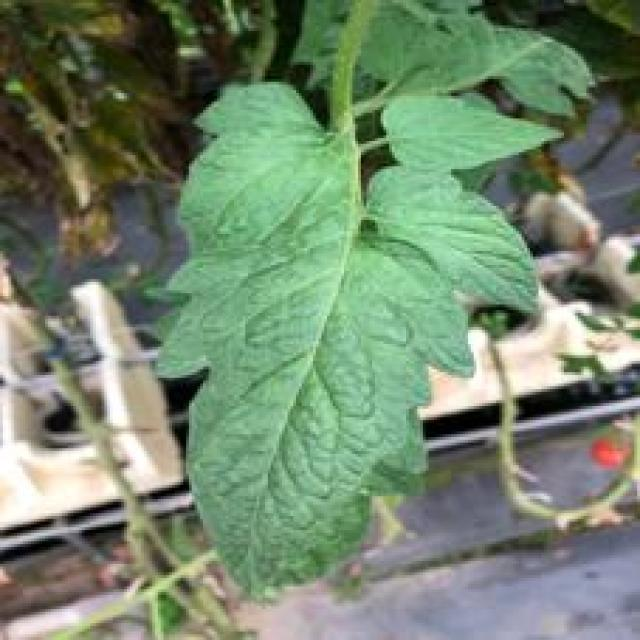Tomato healthy leaf: (158, 82, 567, 601)
